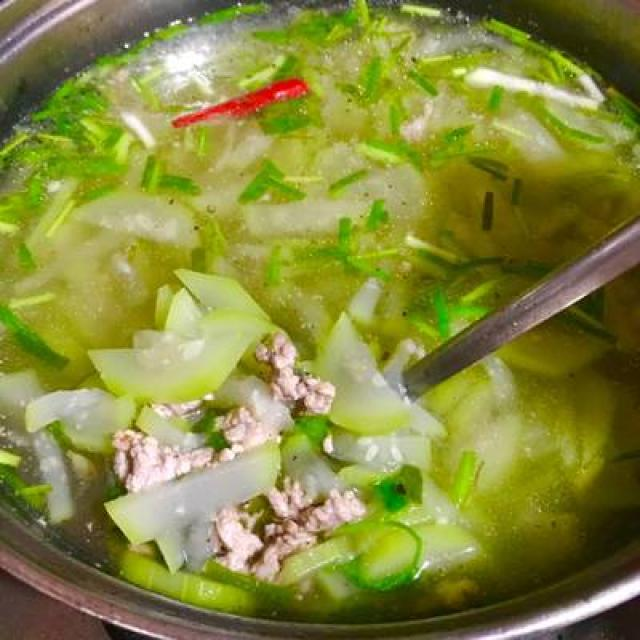canh bau: (2, 4, 638, 626)
